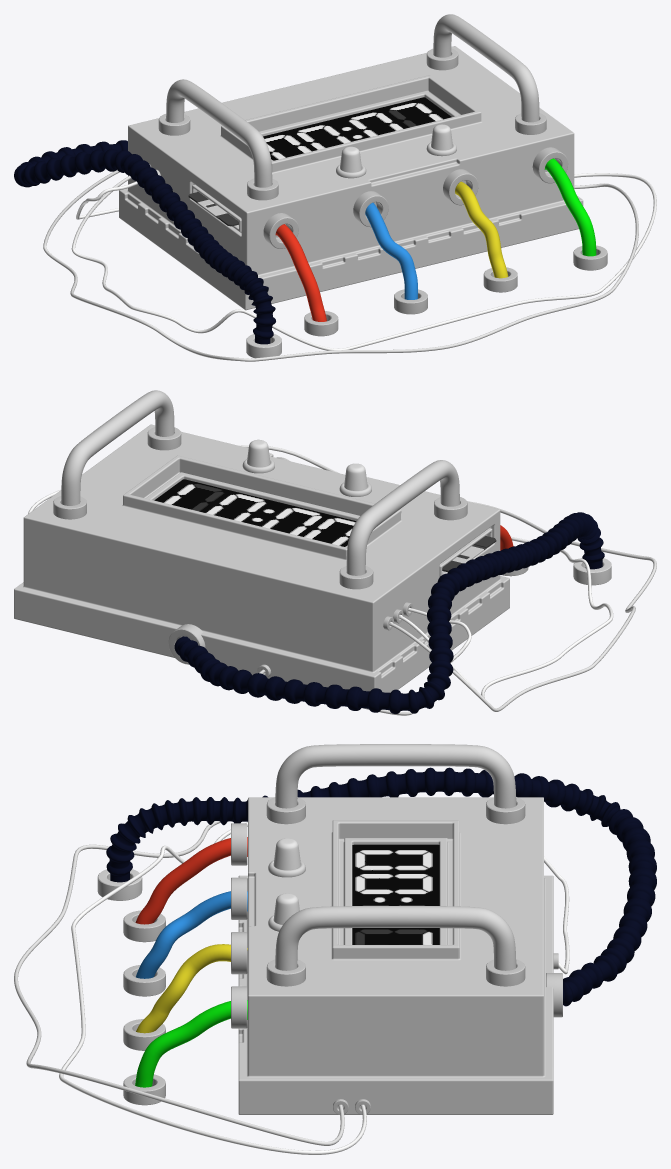
Rendered from bomb.gltf.
3 renders of one model, top to bottom at view 1: azimuth 30°, elevation 25°; view 2: azimuth 150°, elevation 25°; view 3: azimuth 270°, elevation 25°, orthographic. The views are drawn at different scales.
Visible parts, largest first — view 1: Main, Big cable, Handles, Main.002, BezierCurve.008, Small Cable, Circle.001, Circle.004, BezierCurve.003, BezierCurve.005, BezierCurve.004, Cable Front (+5 smaller); view 2: Main, Big cable, Handles, Main.002, Small Cable, BezierCurve.008, Circle.005, Holder, Siren, Circle.003, Circle.006, Main.001 (+1 smaller); view 3: Main, Big cable, Handles, Main.002, BezierCurve.008, Circle.004, Small Cable, Circle.001, BezierCurve.005, BezierCurve.003, BezierCurve.004, Cable Front (+4 smaller).
Part boxes in pixels (bbox=[...]): Main: bbox=[119, 46, 583, 310]; Big cable: bbox=[14, 140, 275, 344]; Handles: bbox=[166, 14, 539, 187]; Main.002: bbox=[263, 97, 451, 160]; BezierCurve.008: bbox=[71, 173, 656, 350]; Small Cable: bbox=[43, 170, 638, 361]; Circle.001: bbox=[263, 147, 568, 248]; Circle.004: bbox=[304, 245, 607, 336]; BezierCurve.003: bbox=[365, 202, 417, 299]; BezierCurve.005: bbox=[544, 158, 596, 256]; BezierCurve.004: bbox=[455, 181, 508, 278]; Cable Front: bbox=[275, 224, 326, 321]; Main: bbox=[14, 424, 509, 692]; Big cable: bbox=[174, 512, 604, 713]; Handles: bbox=[61, 390, 459, 575]; Main.002: bbox=[154, 479, 356, 546]; Small Cable: bbox=[239, 445, 656, 711]; BezierCurve.008: bbox=[28, 490, 613, 715]; Circle.005: bbox=[53, 496, 373, 589]; Holder: bbox=[147, 427, 467, 520]; Siren: bbox=[247, 439, 367, 490]; Circle.003: bbox=[573, 558, 611, 585]; Circle.006: bbox=[168, 624, 205, 664]; Main.001: bbox=[442, 536, 496, 572]; Main: bbox=[238, 797, 553, 1114]; Big cable: bbox=[106, 767, 656, 1006]; Handles: bbox=[275, 744, 516, 970]; Main.002: bbox=[352, 844, 439, 944]; BezierCurve.008: bbox=[59, 822, 569, 1154]; Circle.004: bbox=[123, 910, 165, 1105]; Small Cable: bbox=[14, 821, 344, 1145]; Circle.001: bbox=[231, 823, 247, 1028]; BezierCurve.005: bbox=[135, 1000, 247, 1087]; BezierCurve.003: bbox=[136, 891, 247, 978]; BezierCurve.004: bbox=[136, 944, 247, 1033]; Cable Front: bbox=[135, 837, 247, 924].
Bounding box in the file's own units: 5.31 × 1.4 × 4.34.
Materials: 10 (1 with a texture image).
